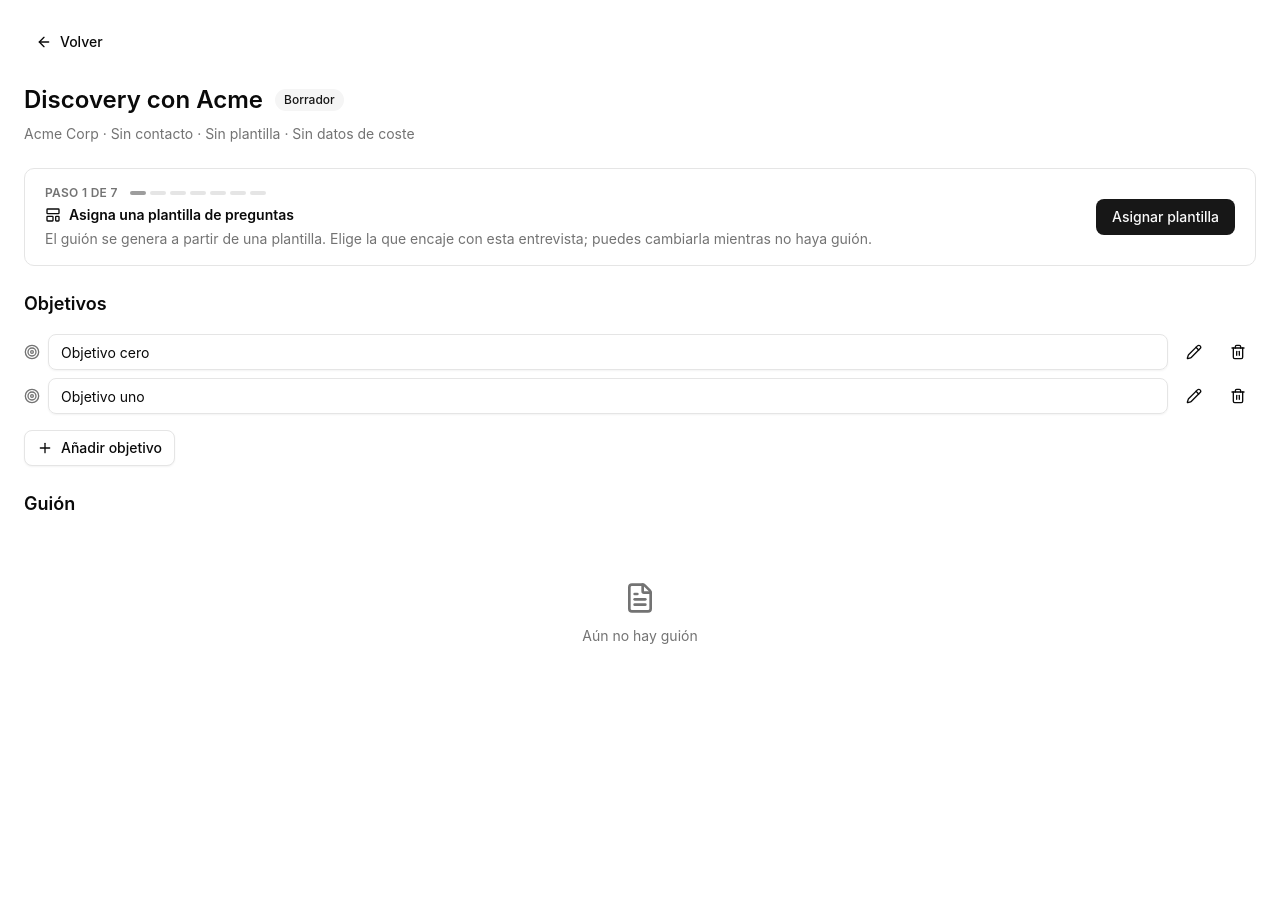
Test: ObjectivesSection › marking with a comment (happy path) › saves the met mark showing the loading state, closes the dialog, turns the icon green and toasts "Objetivo actualizado"
Click the button with test id "objective-override-button" at (1194, 352), box [1176, 334, 1212, 370]
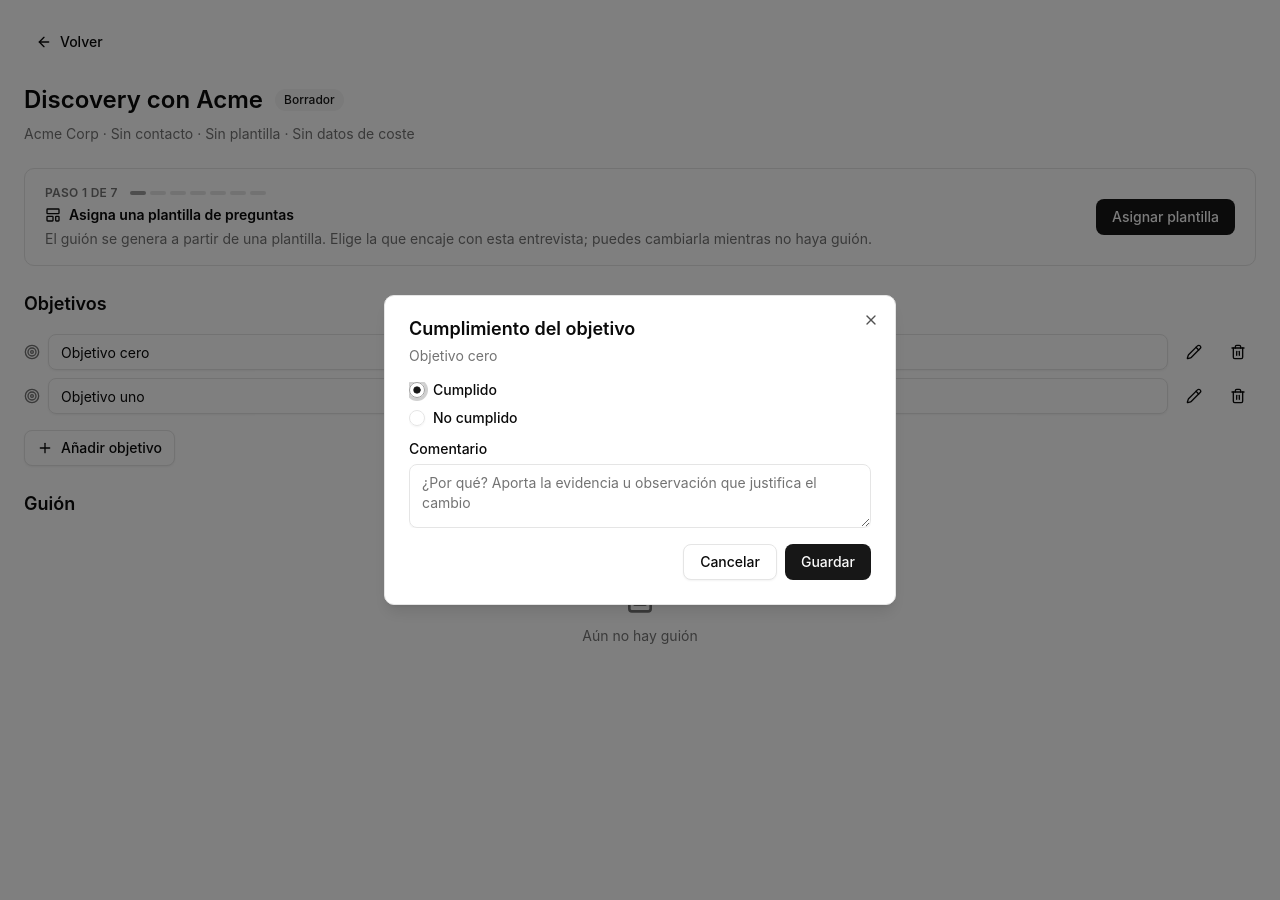
Type "El cliente confirmó la compra con una orden firmada." into the text box with test id "objective-override-comment" at (640, 496), box [409, 464, 871, 528]
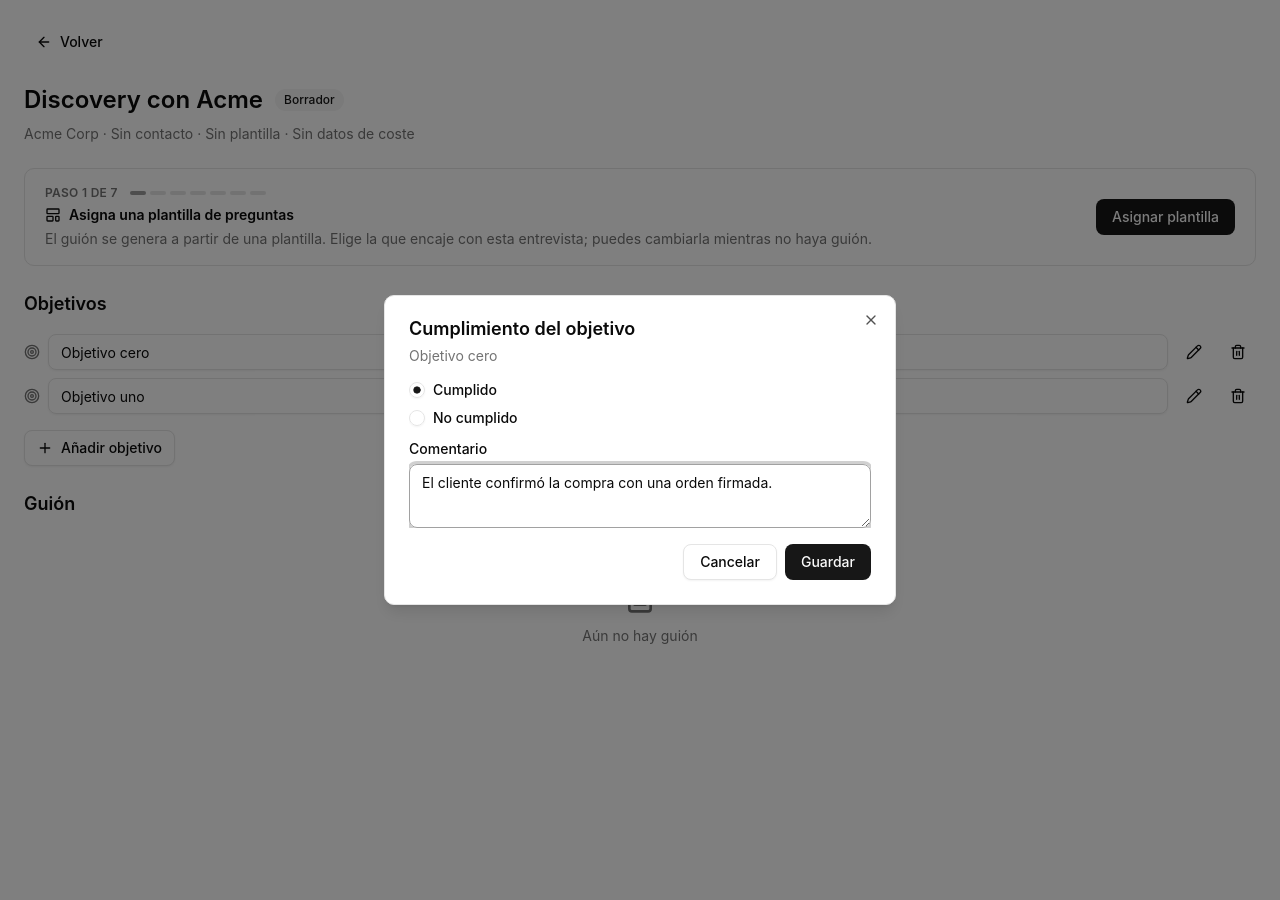
Click the button "Guardar" at (828, 562), box [785, 544, 871, 580]
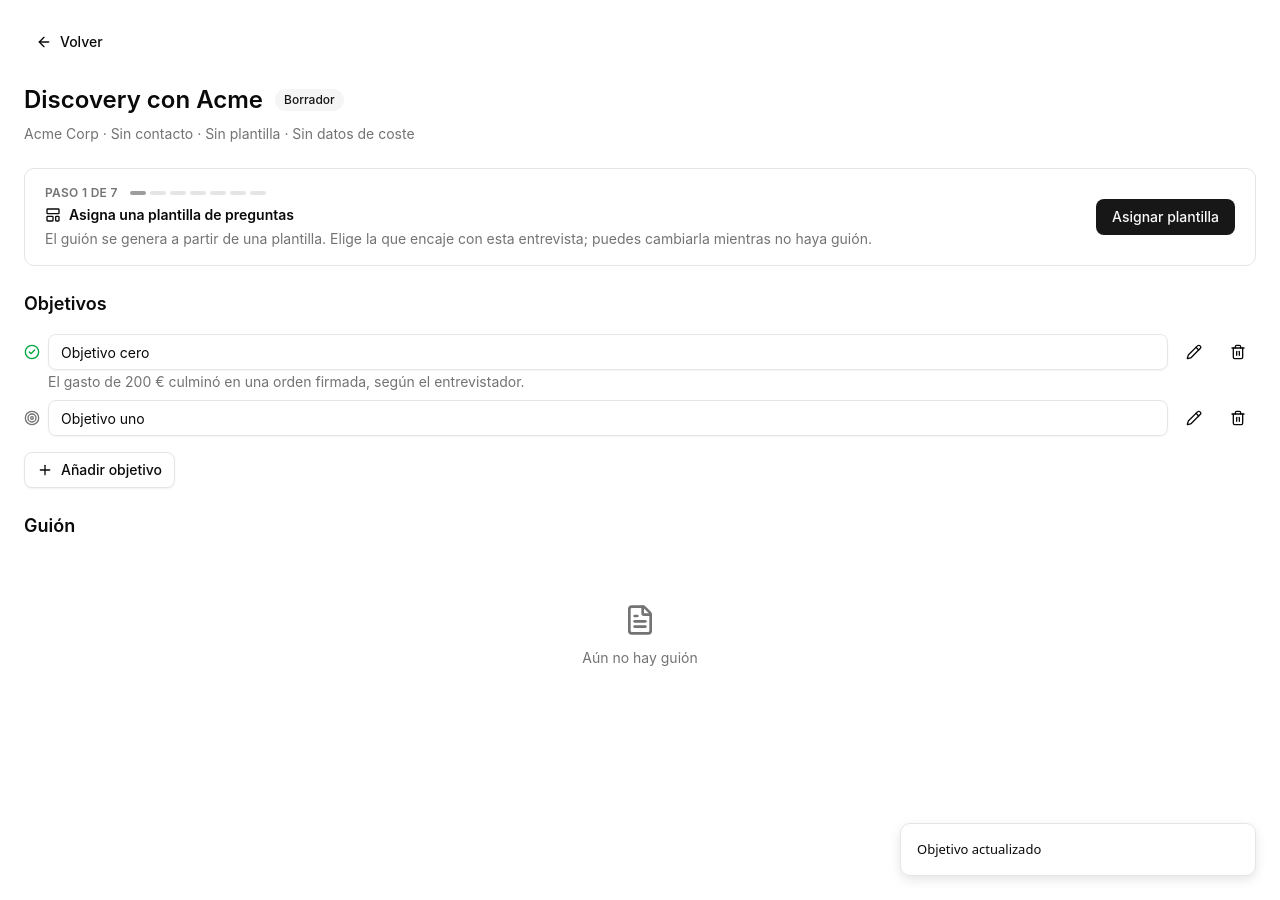
Expected: the dialog with test id "objective-override-dialog" is gone
